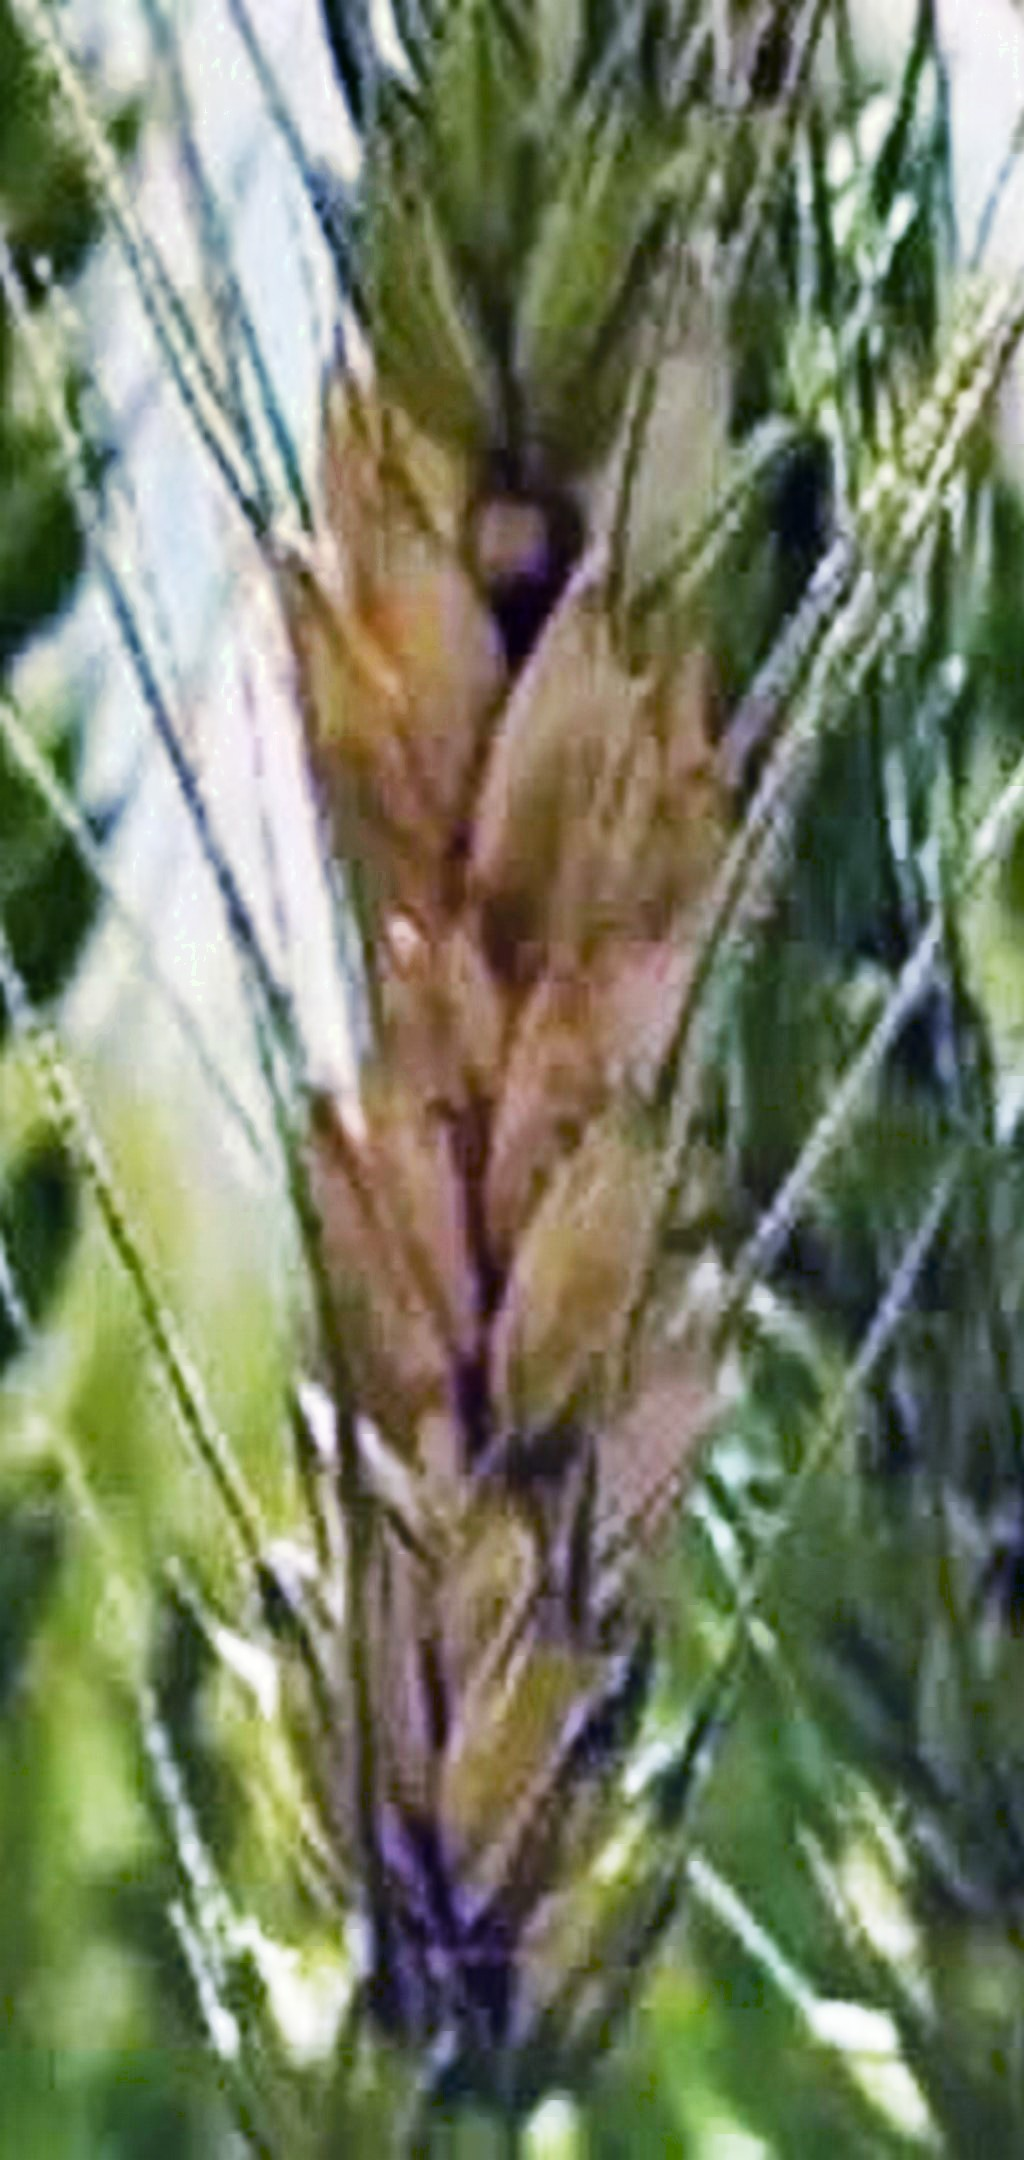Wheat scab: (222, 59, 768, 2042)
